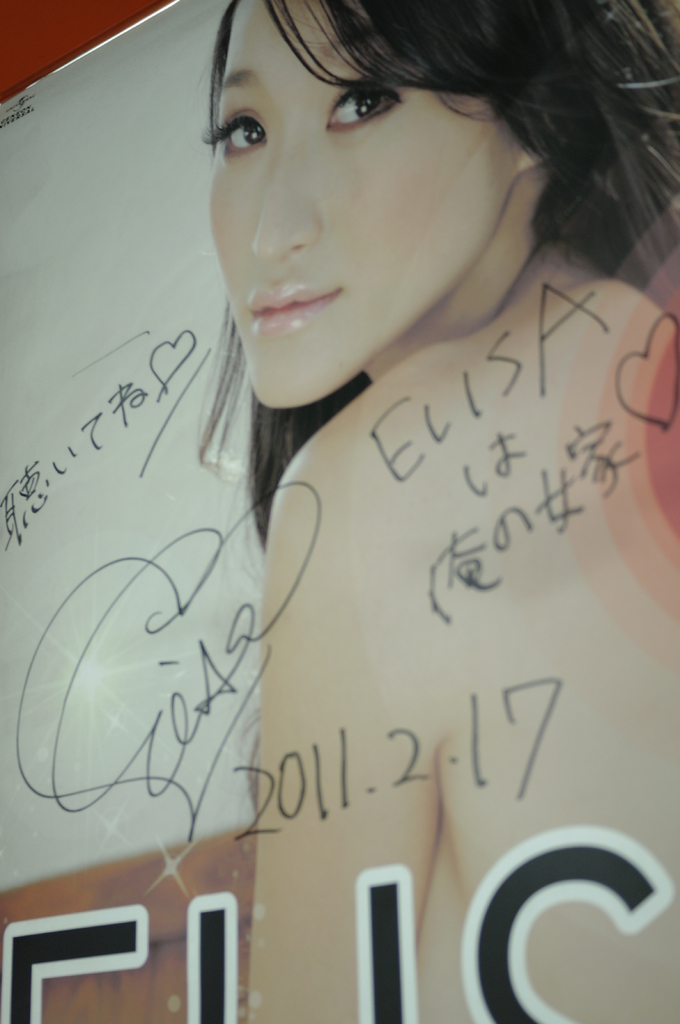face: (202, 0, 434, 412)
